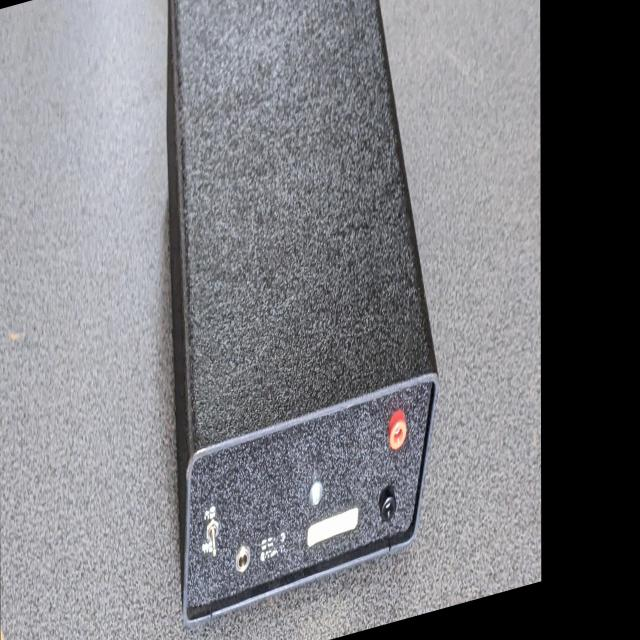SRP Digital Spark Timer: (172, 0, 441, 640)
